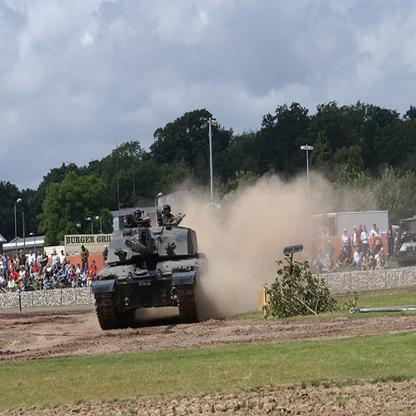Tank: (88, 205, 212, 330)
